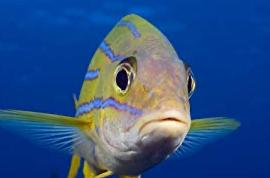Lutjanidae -Snappers-: (0, 11, 243, 178)
